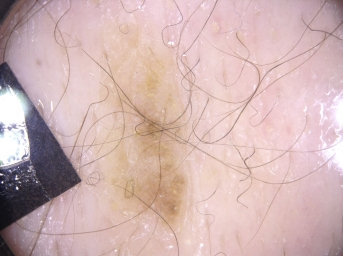seborrheic keratosis: (89, 27, 215, 229)
